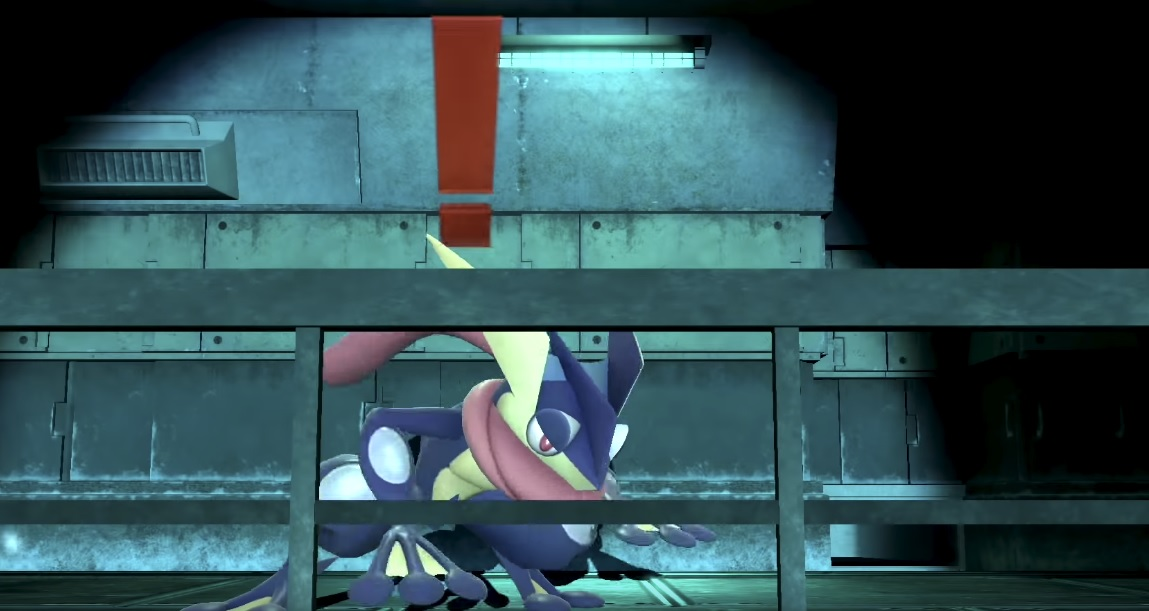greninja: (247, 235, 731, 611)
